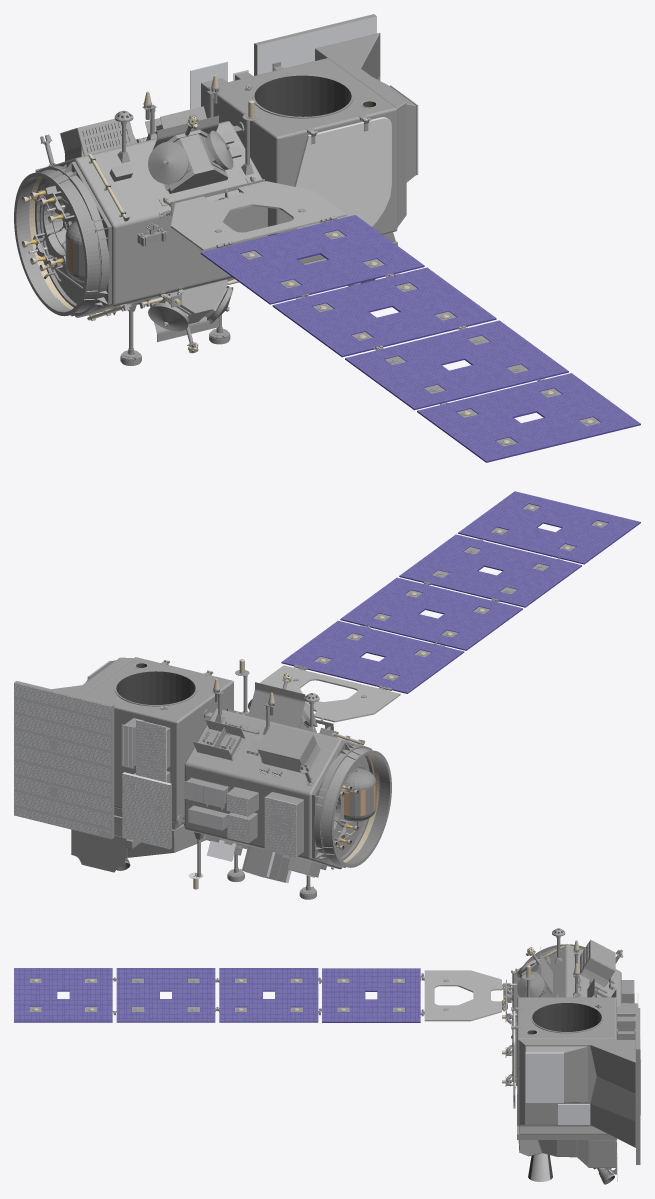
Rendered from Ice, Clouds, and Land Elevation Satellite-2 (ICESat-2) (A).fbx.
3 renders of one model, top to bottom at view 1: azimuth 30°, elevation 25°; view 2: azimuth 150°, elevation 25°; view 3: azimuth 270°, elevation 25°, orthographic. The views are drawn at different scales.
Visible parts, largest first — view 1: MainBus; view 2: MainBus; view 3: MainBus.
Part boxes in pixels (<box>): MainBus: <box>14,14,640,462</box>; MainBus: <box>14,491,640,899</box>; MainBus: <box>14,928,640,1184</box>.
Size of the model in its own units: 374 by 238 by 756.
